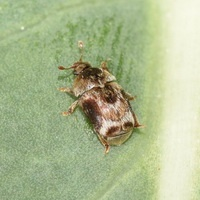insect: (58, 41, 143, 153)
